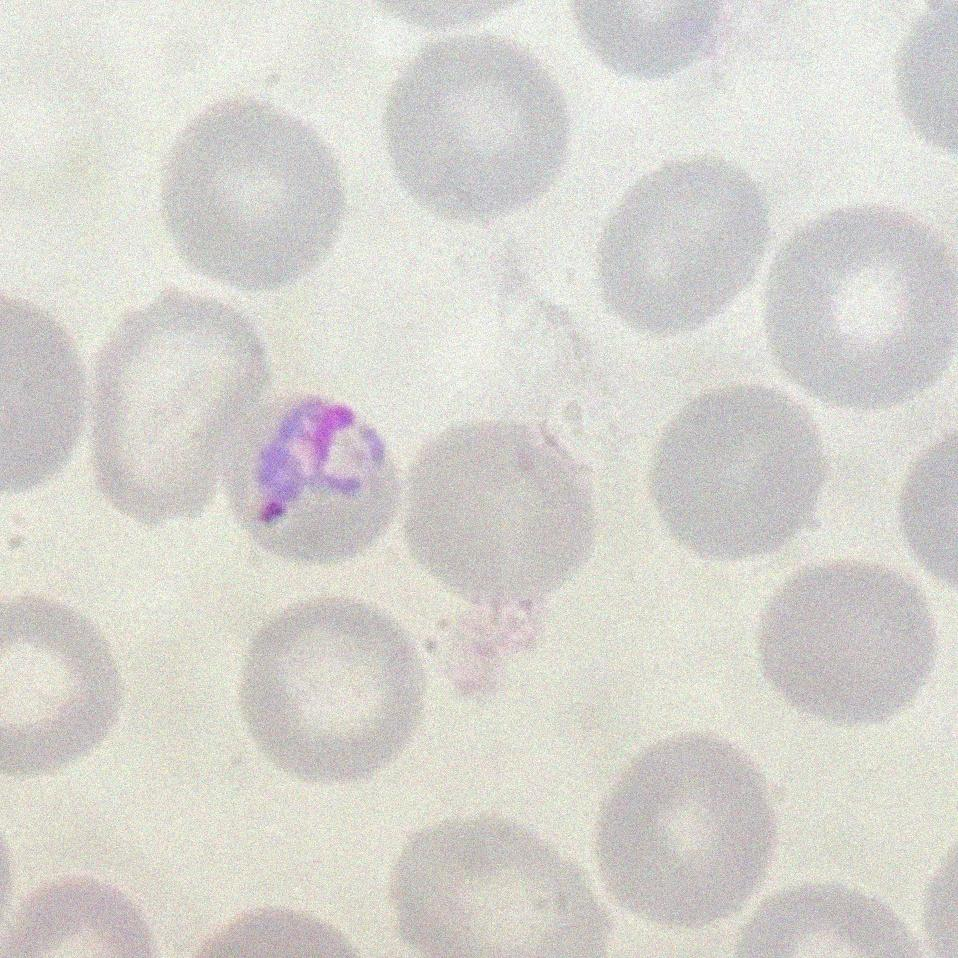Infected: (227, 395, 403, 563)
Uninfected: (88, 290, 263, 525), (768, 209, 958, 414), (163, 100, 344, 292), (400, 420, 596, 596), (603, 735, 775, 928), (238, 600, 422, 777), (388, 47, 575, 218), (397, 815, 612, 958), (648, 387, 824, 559), (760, 560, 936, 725), (603, 162, 764, 335), (0, 592, 127, 779), (0, 300, 88, 497)
